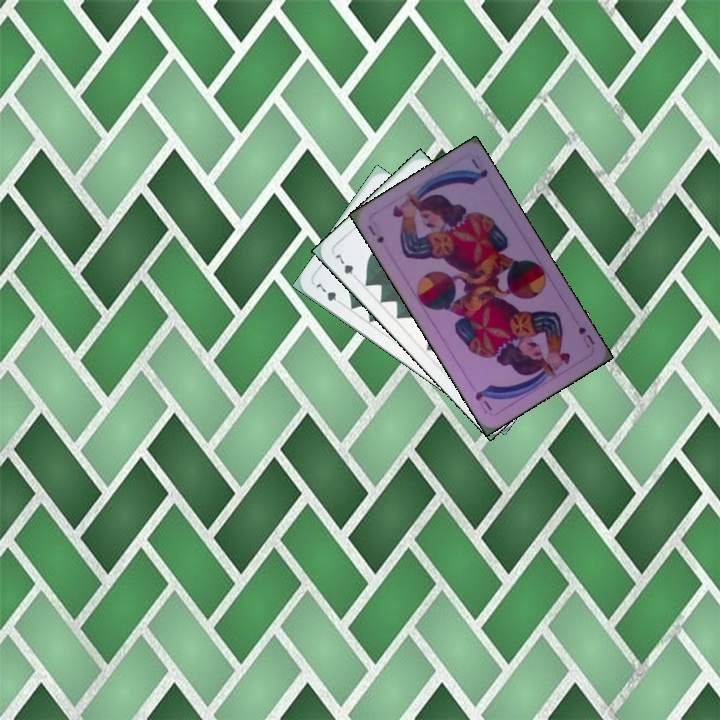G7: (312, 277, 346, 308), (331, 250, 361, 283)
SU: (574, 323, 597, 351), (364, 220, 387, 246)
